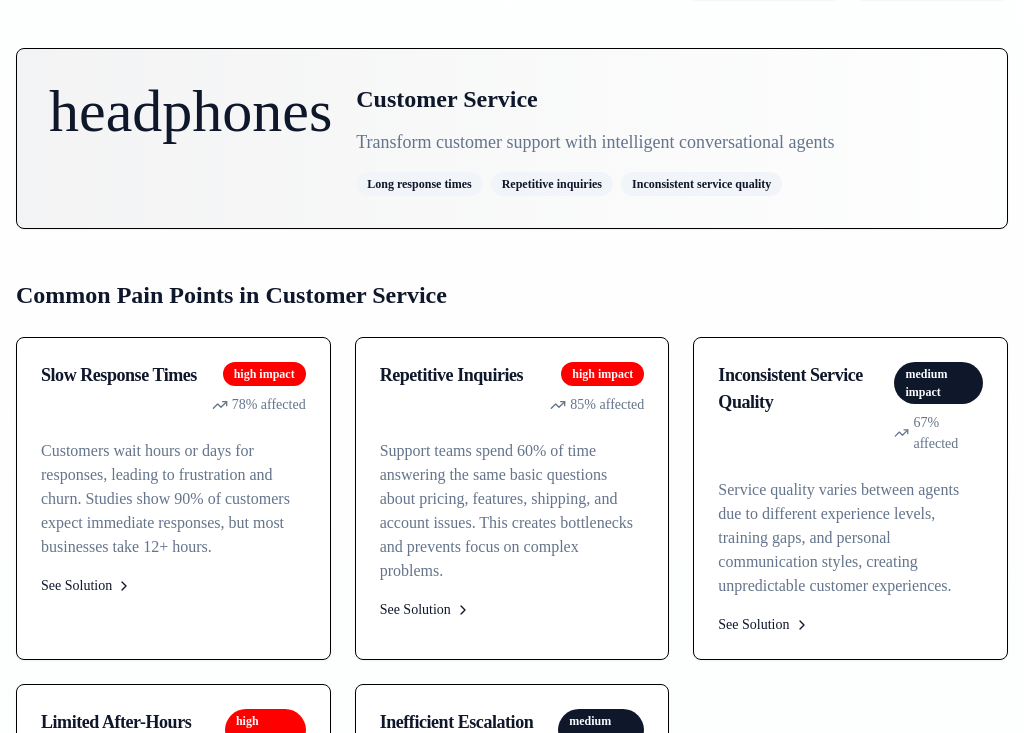
PainPointSolver › shows solution details when pain point is clicked
(page scrolled)
Click on a pain point
Click the text "Slow Response Times".
click(119, 376)  # box [41,362,197,389]
(page scrolled)
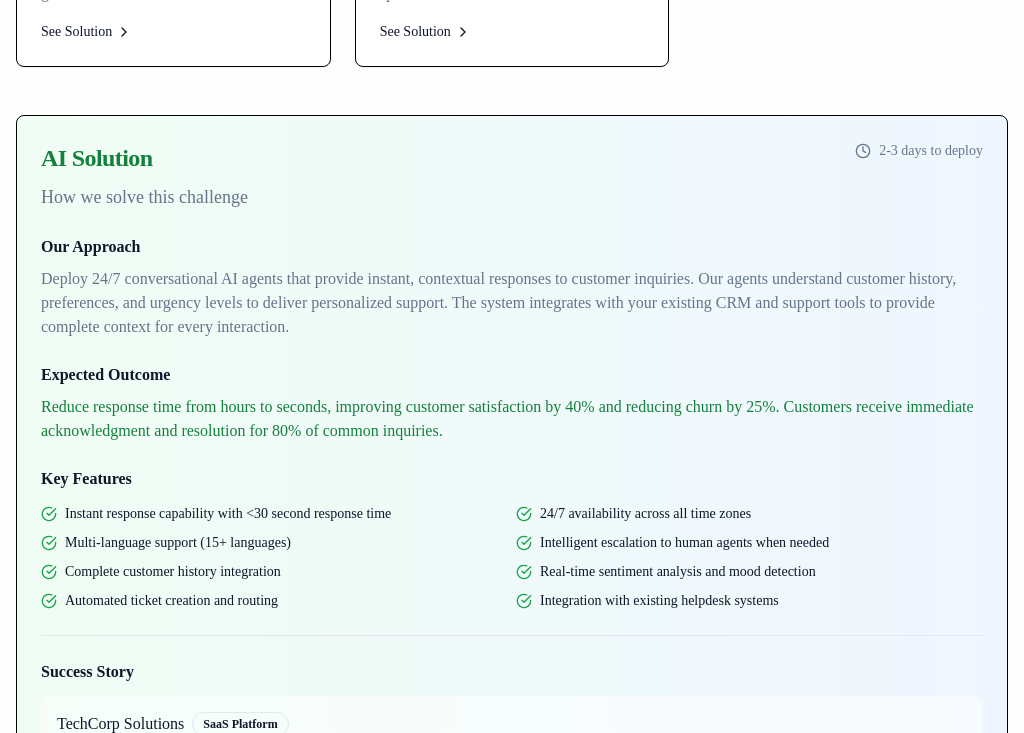
Check: the text "AI Solution" is shown, box [41,145,152,171]
Check: the heading "Our Approach" is shown, box [41,238,140,255]
Check: the heading "Expected Outcome" is shown, box [41,366,170,383]
